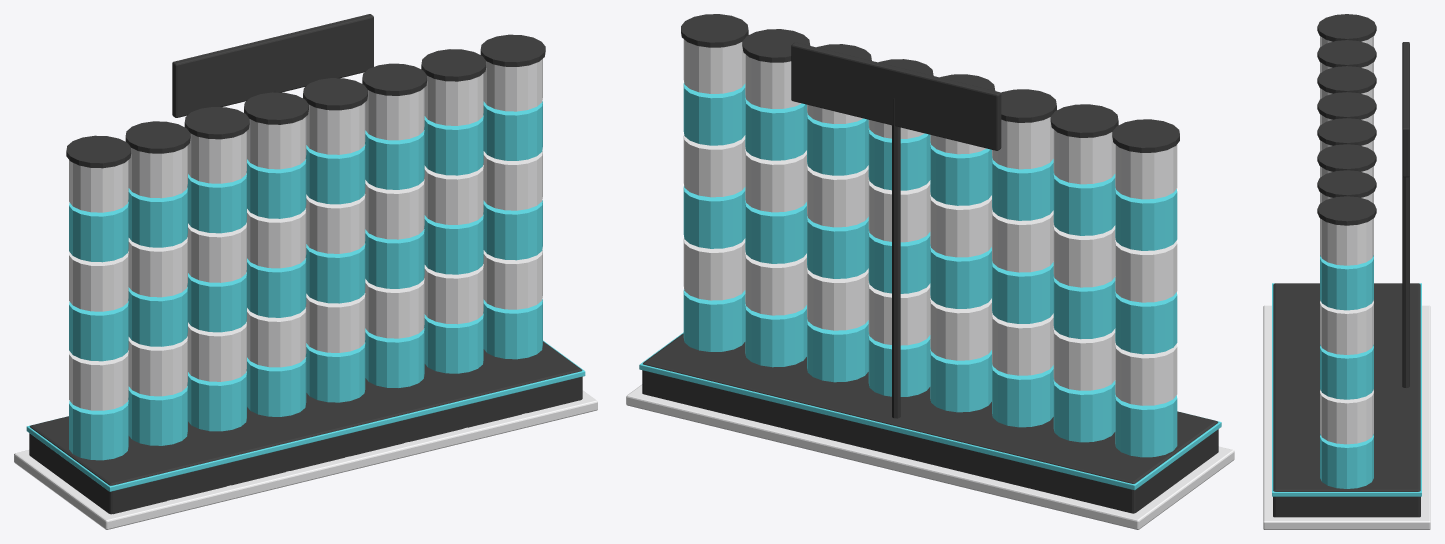
Rendered from collateral-stacks.glb.
3 views of the same model, side by side, from view 1: azimuth 30°, elevation 25°; view 2: azimuth 150°, elevation 25°; view 3: azimuth 270°, elevation 25° (orthographic). The views are drawn at different scales.
Parts seen in each view (by area): view 1: base, base_step, sign_board, base_band, sign_back, coin_02_1, coin_02_3, stack_08, coin_04_1, coin_04_3, stack_05, coin_01_2 (+57 smaller); view 2: base, sign_back, base_step, base_band, stack_01, coin_08_1, coin_08_3, coin_01_3, coin_02_3, stack_02, coin_08_4, coin_01_4 (+43 smaller); view 3: base, base_step, coin_08_1, coin_08_2, coin_08_3, coin_08_4, stack_08, coin_08_5, sign_post, base_band, cap_08, cap_04 (+7 smaller).
Part boxes in pixels (x1,y1,x2,y2): base: (29, 341, 582, 514); base_step: (14, 390, 597, 529); sign_board: (181, 22, 370, 112); base_band: (26, 340, 585, 491); sign_back: (172, 14, 373, 117); coin_02_1: (128, 336, 187, 396); coin_02_3: (128, 237, 187, 297); stack_08: (483, 299, 542, 359); coin_04_1: (246, 307, 306, 367); coin_04_3: (246, 208, 306, 268); stack_05: (305, 342, 365, 402); coin_01_2: (69, 301, 128, 361); base: (642, 333, 1218, 513); sign_back: (791, 42, 1001, 150); base_step: (626, 384, 1234, 529); base_band: (639, 332, 1221, 490); stack_01: (1115, 395, 1177, 457); coin_08_1: (683, 238, 745, 300); coin_08_3: (683, 134, 745, 197); coin_01_3: (1115, 240, 1177, 302); coin_02_3: (1053, 225, 1115, 287); stack_02: (1053, 380, 1115, 442); coin_08_4: (683, 83, 745, 145); coin_01_4: (1115, 188, 1177, 250); base: (1273, 283, 1420, 517); base_step: (1263, 305, 1430, 529); coin_08_1: (1320, 390, 1373, 444); coin_08_2: (1320, 346, 1373, 399); coin_08_3: (1320, 301, 1373, 354); coin_08_4: (1320, 256, 1373, 310); stack_08: (1320, 435, 1373, 488); coin_08_5: (1320, 218, 1373, 265); sign_post: (1402, 176, 1409, 387); base_band: (1272, 283, 1421, 496); cap_08: (1317, 196, 1376, 225); cap_04: (1317, 92, 1376, 119).
Size of the model in its own units: 10.4 by 7.55 by 3.4.
